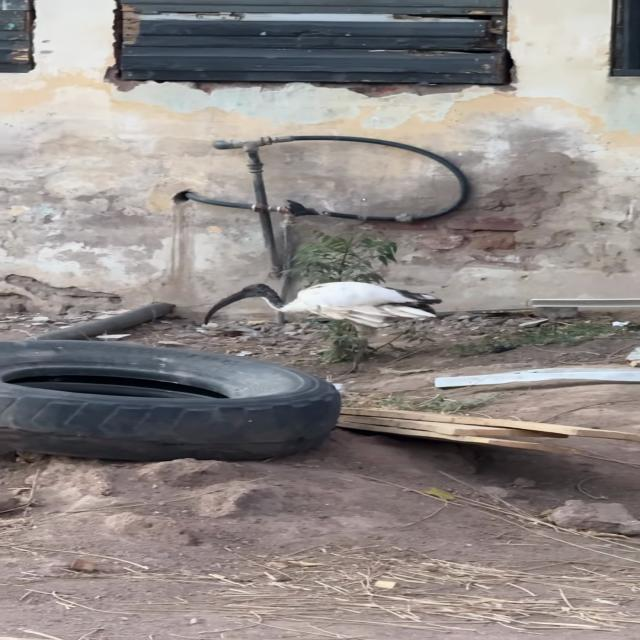Birds-Ibis: (198, 280, 444, 377)
